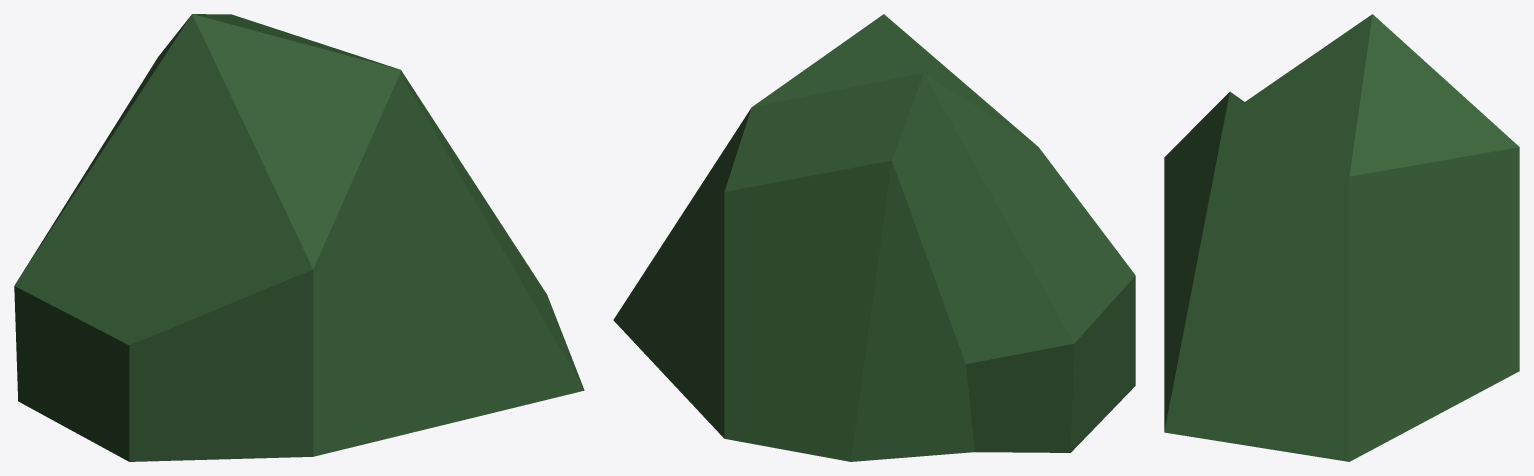
The model's file is Rock 3.fbx.
3 views of the same model, side by side, from view 1: azimuth 30°, elevation 25°; view 2: azimuth 150°, elevation 25°; view 3: azimuth 270°, elevation 25° (orthographic). The views are drawn at different scales.
Visible parts, largest first — view 1: Cube; view 2: Cube; view 3: Cube.
Part boxes in pixels (bbox=[...]): Cube: bbox=[14, 14, 584, 461]; Cube: bbox=[613, 14, 1135, 461]; Cube: bbox=[1164, 14, 1519, 461].
Size of the model in its own units: 570 by 378 by 400.
